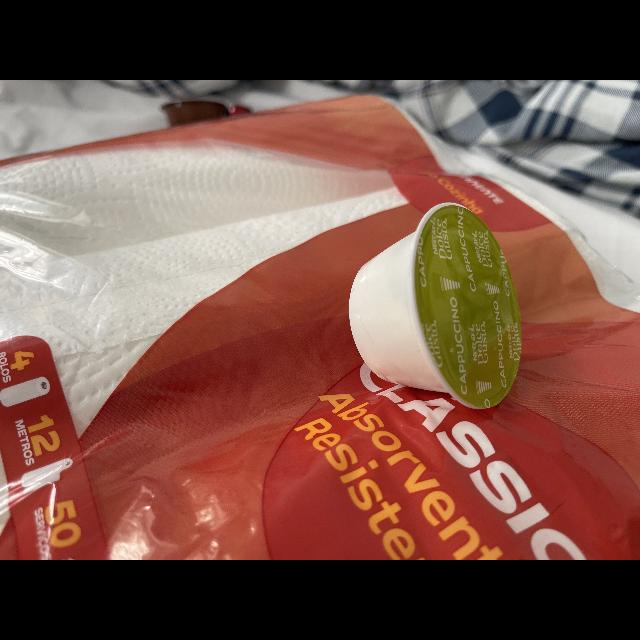intact_capsule: (342, 194, 532, 416)
